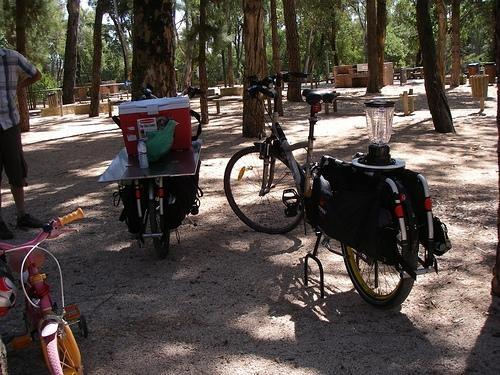bicycle: (224, 72, 419, 310), (96, 78, 204, 262), (2, 209, 88, 373)
